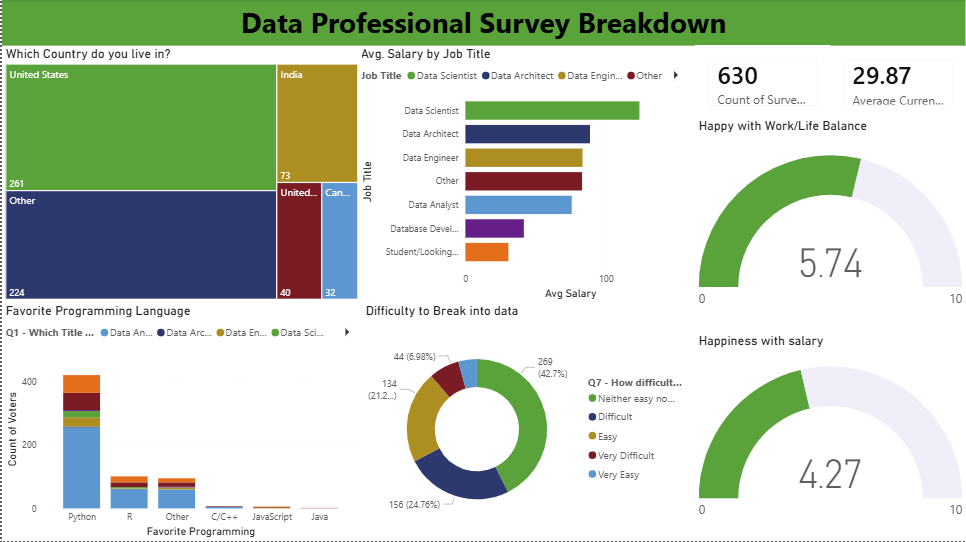

The dashboard page shown, as its layout file describes it:
{"tool":"powerbi","page":{"name":"Page 1","canvas":[1280,720],"ordinal":0},"visuals":[{"type":"textbox","box":[0,0,1280,62.2],"z":0},{"type":"cardVisual","fields":{"Data":["CountNonNull(Data Professional Survey.Unique ID)"]},"box":[920.5,61.5,180,98],"z":1000},{"type":"cardVisual","fields":{"Data":["Avg(Data Professional Survey.Q10 - Current Age)"]},"box":[1100.5,62.9,180,96.6],"z":2000},{"type":"barChart","title":"Avg. Salary by Job Title","fields":{"Category":["Data Professional Survey.Q1 - Which Title Best Fits your Current Role?.1"],"Y":["Avg(Data Professional Survey.Avg Salary)"],"Series":["Data Professional Survey.Q1 - Which Title Best Fits your Current Role?.1"]},"box":[471,62.2,439,341.4],"z":3000},{"type":"columnChart","title":"Favorite Programming Language","fields":{"Category":["Data Professional Survey.Q5 - Favorite Programming Language.1"],"Y":["CountNonNull(Data Professional Survey.Unique ID)"],"Series":["Data Professional Survey.Q1 - Which Title Best Fits your Current Role?.1"]},"box":[0,403.7,477.7,316.2],"z":4000},{"type":"treemap","title":"Which Country do you live in?","fields":{"Group":["Data Professional Survey.Q11 - Which Country do you live in?.1"],"Values":["CountNonNull(Data Professional Survey.Q11 - Which Country do you live in?.1)"]},"box":[0,62.2,477.7,341.4],"z":5000},{"type":"gauge","title":"Happiness with salary","fields":{"Y":["Avg(Data Professional Survey.Q6 - How Happy are you in your Current Position with the following? (Salary))"],"MinValue":["Min(Data Professional Survey.Q6 - How Happy are you in your Current Position with the following? (Salary))1"],"MaxValue":["Max(Data Professional Survey.Q6 - How Happy are you in your Current Position with the following? (Salary))2"]},"box":[920.1,444,359.9,275.8],"z":6000},{"type":"gauge","title":"Happy with Work/Life Balance","fields":{"Y":["Avg(Data Professional Survey.Q6 - How Happy are you in your Current Position with the following? (Work/Life Balance))"],"MinValue":["Min(Data Professional Survey.Q6 - How Happy are you in your Current Position with the following? (Work/Life Balance))"],"MaxValue":["Max(Data Professional Survey.Q6 - How Happy are you in your Current Position with the following? (Work/Life Balance))1"]},"box":[920.1,158.1,359.9,285.9],"z":7000},{"type":"donutChart","title":"Difficulty to Break into data","fields":{"Category":["Data Professional Survey.Q7 - How difficult was it for you to break into Data?"],"Y":["CountNonNull(Data Professional Survey.Q7 - How difficult was it for you to break into Data?)"]},"box":[477.7,403.7,432.3,316.2],"z":8000}]}

Visuals, with their boxes in screenshot pixels (x1, y1, x2, y2), scaled from the page's 1280x720 canvas onto the 966x542 screenshot:
textbox: 0,0,965,47
cardVisual - CountNonNull(Data Professional Survey.Unique ID): 695,46,831,120
cardVisual - Avg(Data Professional Survey.Q10 - Current Age): 831,47,965,120
"Avg. Salary by Job Title" barChart: 355,47,687,304
"Favorite Programming Language" columnChart: 0,304,361,541
"Which Country do you live in?" treemap: 0,47,361,304
"Happiness with salary" gauge: 694,334,965,541
"Happy with Work/Life Balance" gauge: 694,119,965,334
"Difficulty to Break into data" donutChart: 361,304,687,541
